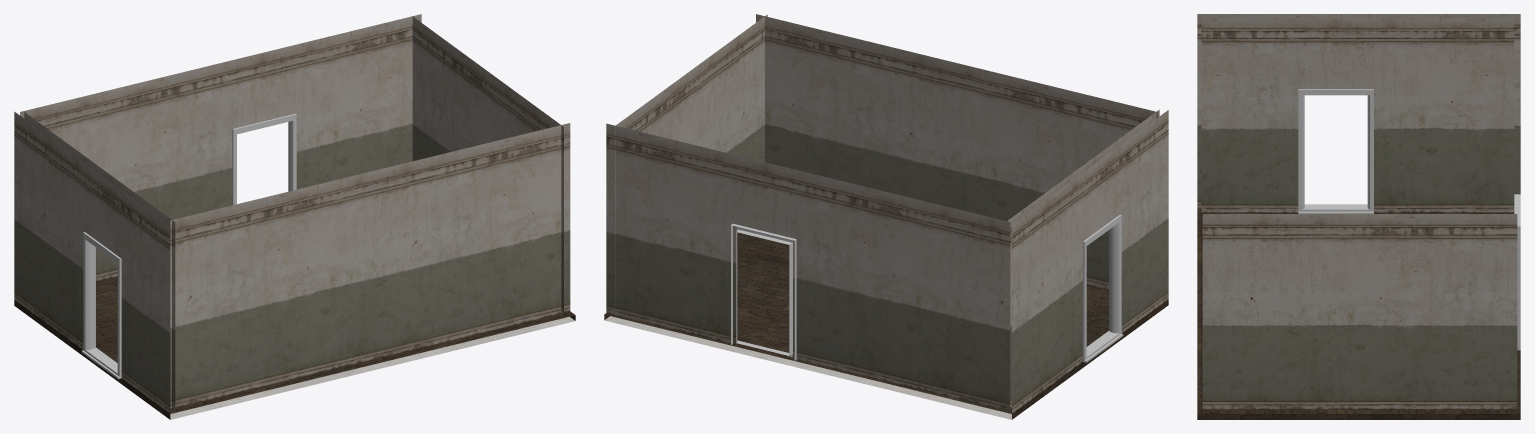
File: room_6m_x_9m_door_left.fbx
3 views of the same model, side by side, from view 1: azimuth 30°, elevation 25°; view 2: azimuth 150°, elevation 25°; view 3: azimuth 270°, elevation 25° (orthographic). The views are drawn at different scales.
Parts seen in each view (by area): view 1: room_6m_x_9m_door_left; view 2: room_6m_x_9m_door_left; view 3: room_6m_x_9m_door_left.
Boxes of the visible parts, x1,y1,x2,y2 form: room_6m_x_9m_door_left: [14, 14, 575, 419]; room_6m_x_9m_door_left: [604, 14, 1168, 419]; room_6m_x_9m_door_left: [1197, 14, 1520, 419].
Bounding box in the file's own units: 908 × 412 × 600.
